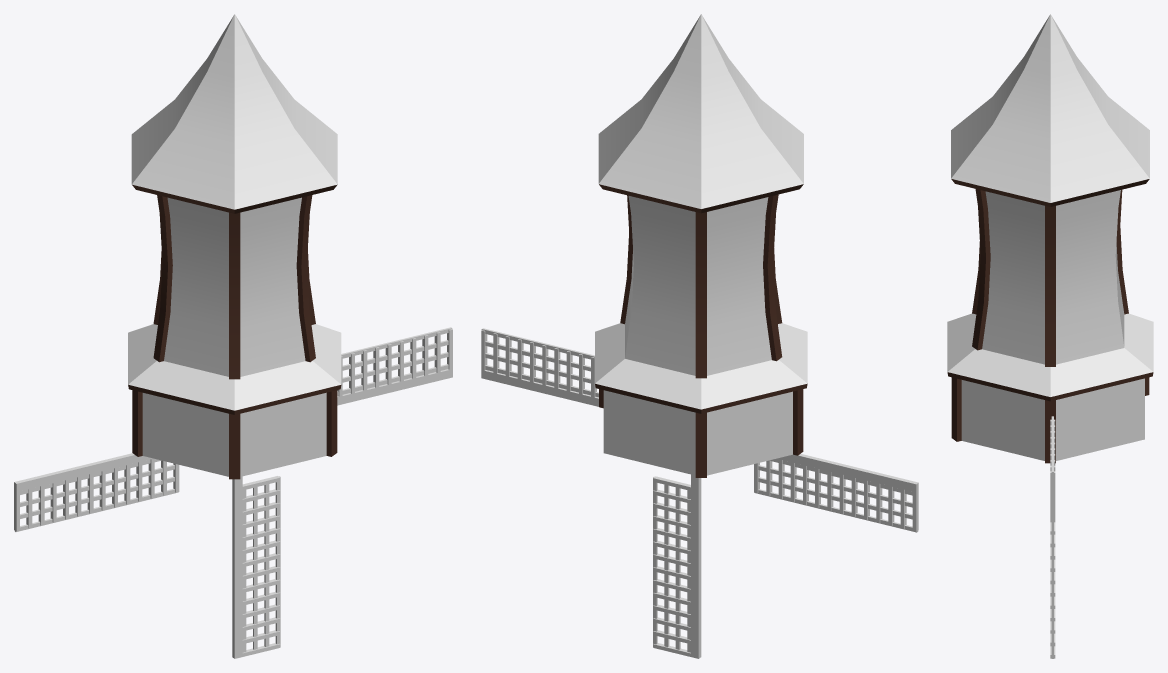
File: Sm_windMill.fbx
3 renders of one model, left to right at view 1: azimuth 30°, elevation 25°; view 2: azimuth 150°, elevation 25°; view 3: azimuth 270°, elevation 25°, orthographic. The views are drawn at different scales.
Parts seen in each view (by area): view 1: building, wind; view 2: building, wind; view 3: building, wind.
Boxes of the visible parts, left/top/right/bottom form: building: left=128, top=14, right=341, bottom=479; wind: left=14, top=327, right=452, bottom=658; building: left=595, top=14, right=807, bottom=477; wind: left=481, top=328, right=918, bottom=658; building: left=947, top=14, right=1153, bottom=463; wind: left=1050, top=416, right=1055, bottom=658.
Size of the model in its own units: 1200 by 1695 by 508.
